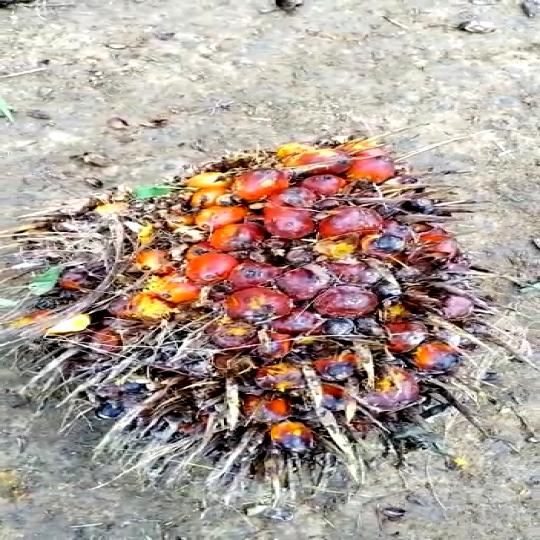masak: (26, 120, 512, 502)
